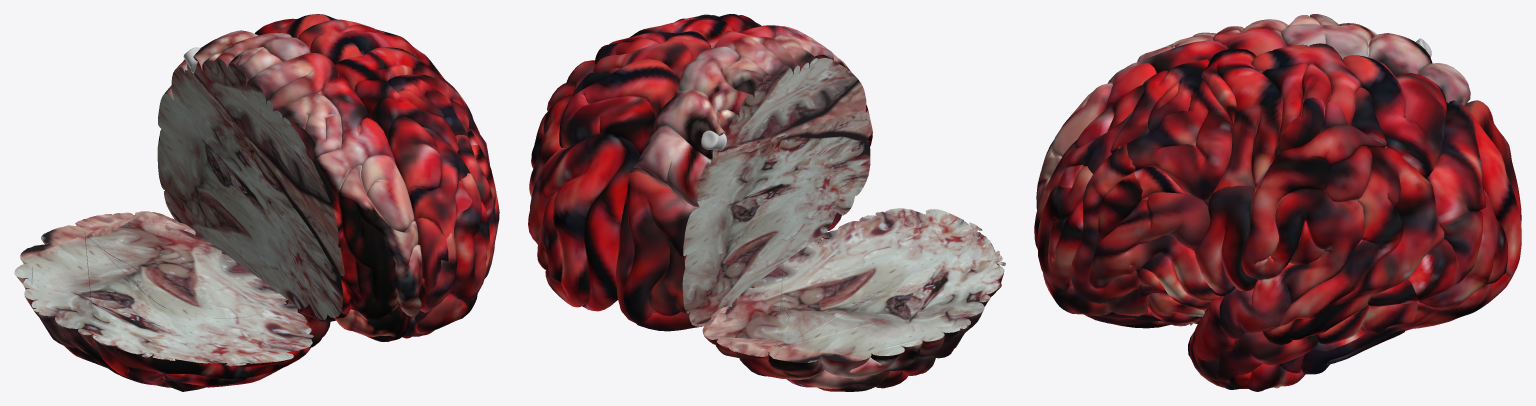
File: cerebro_armafuego_bala.fbx
3 views of the same model, side by side, from view 1: azimuth 30°, elevation 25°; view 2: azimuth 150°, elevation 25°; view 3: azimuth 270°, elevation 25° (orthographic). The views are drawn at different scales.
Parts seen in each view (by area): view 1: Dummy001, interiortrozopequeno, interiortrozogrande; view 2: Dummy001, interiortrozopequeno, interiortrozogrande, bala; view 3: Dummy001.
Boxes of the visible parts, bbox=[...] form: Dummy001: bbox=[17, 14, 499, 391]; interiortrozopequeno: bbox=[14, 211, 313, 366]; interiortrozogrande: bbox=[157, 56, 344, 320]; Dummy001: bbox=[528, 14, 1003, 391]; interiortrozopequeno: bbox=[702, 208, 1005, 363]; interiortrozogrande: bbox=[682, 58, 872, 326]; bala: bbox=[701, 130, 726, 150]; Dummy001: bbox=[1034, 14, 1521, 391].
Bounding box in the file's own units: 1.66 × 1.11 × 1.5.
5 materials, 4 textured.
